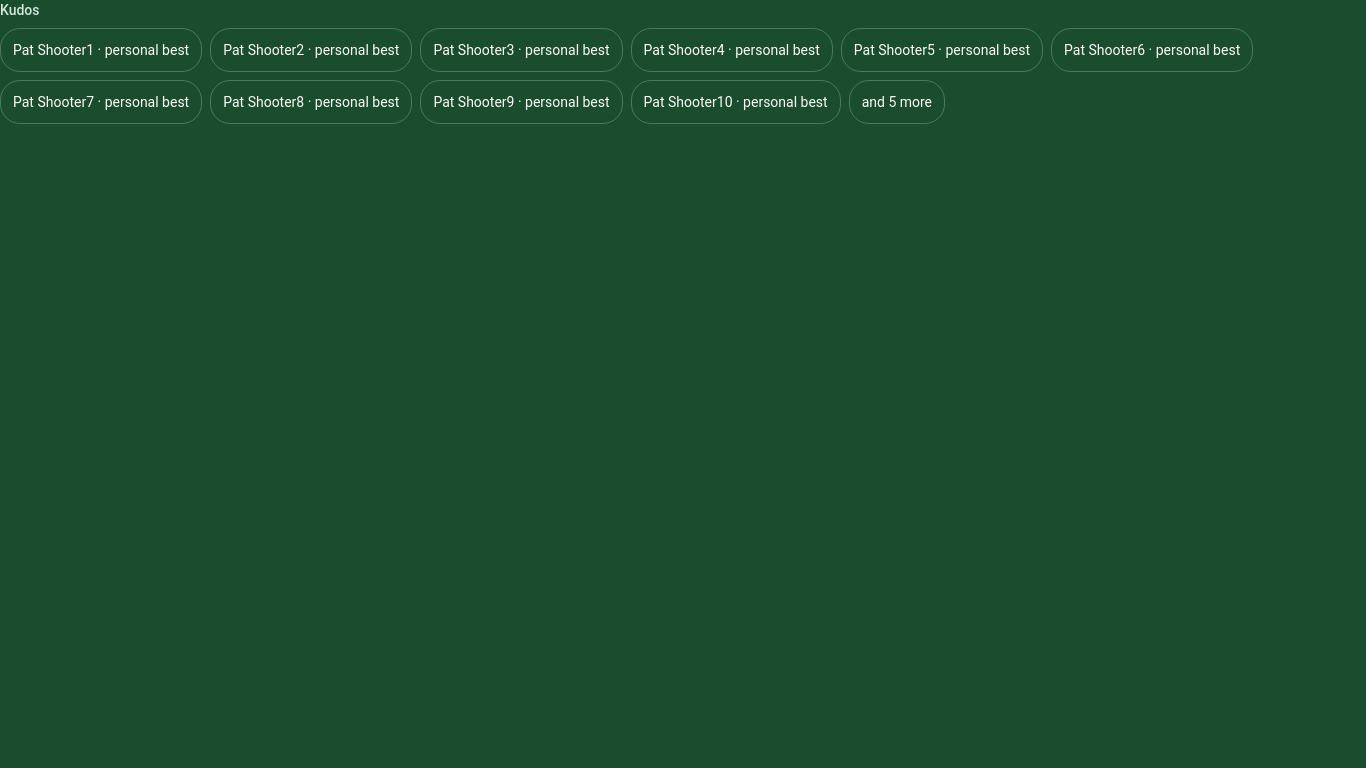
Test: KudosStrip › caps 15 at 10 chips plus "and 5 more", which opens all 15
What coordinates should you click on to do the following:
click the button "and 5 more"
I would click on:
 (897, 102)
Its box is [849, 80, 945, 124].
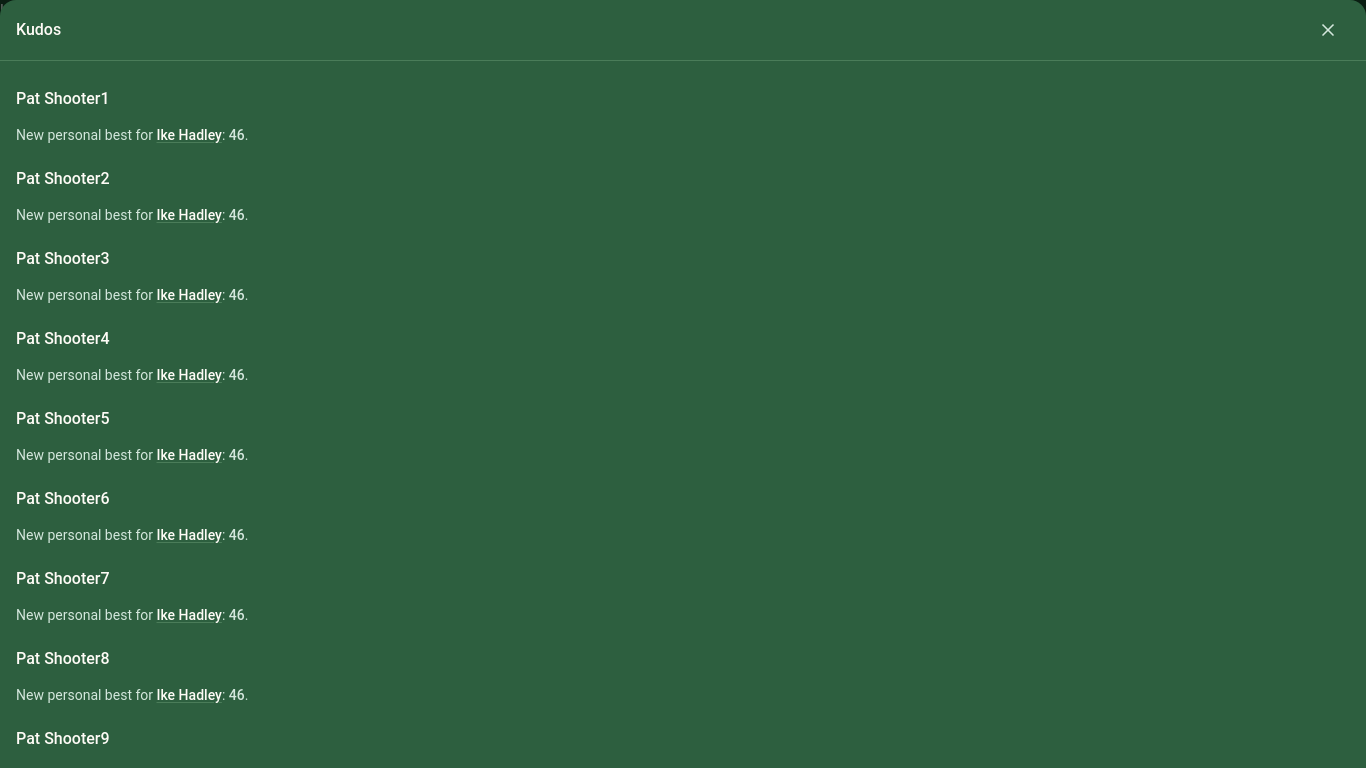
Expected: the number of links "Pat Shooter1" is 15
Expected: the text "New personal best for" is shown 15 times
